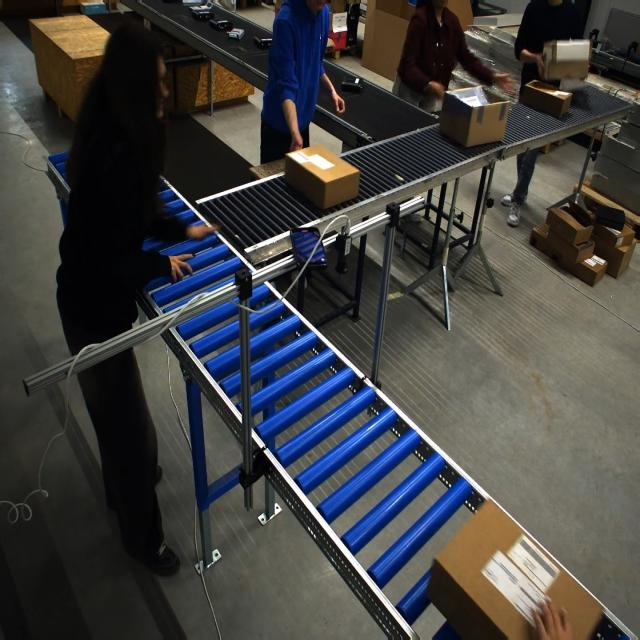box: (426, 497, 610, 639), (437, 84, 510, 148), (283, 145, 352, 212), (539, 38, 592, 82)
product: (189, 6, 214, 21), (341, 76, 363, 92), (208, 18, 230, 31), (253, 36, 272, 49), (227, 28, 245, 40), (194, 1, 214, 11)
